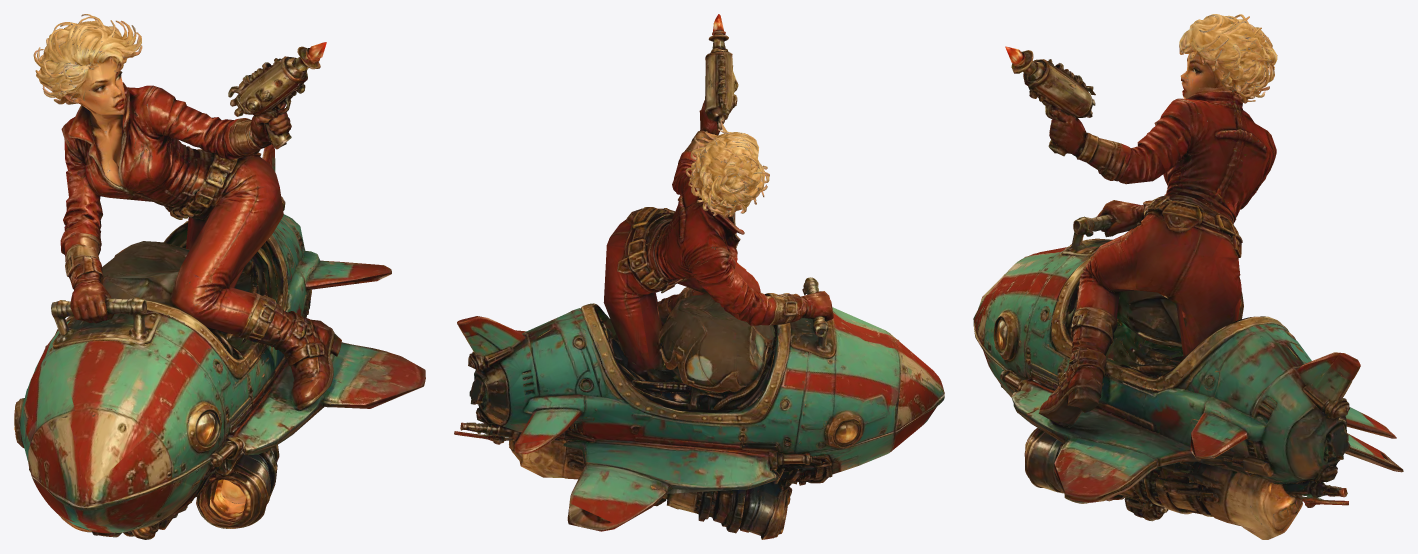
File: deer.glb
3 renders of one model, left to right at view 1: azimuth 30°, elevation 25°; view 2: azimuth 150°, elevation 25°; view 3: azimuth 270°, elevation 25°, orthographic. The views are drawn at different scales.
Visible parts, largest first — view 1: mesh_node; view 2: mesh_node; view 3: mesh_node.
Boxes of the visible parts, bbox=[...] form: mesh_node: bbox=[14, 14, 425, 539]; mesh_node: bbox=[454, 14, 944, 539]; mesh_node: bbox=[973, 14, 1403, 539].
Size of the model in its own units: 1.64 by 1.89 by 1.46.
1 material, 1 textured.
